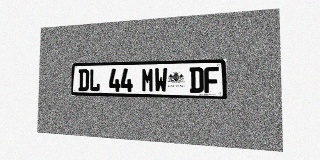4: (109, 68, 121, 92), (121, 68, 133, 92)
D: (189, 67, 204, 93), (78, 69, 89, 91)
F: (204, 67, 219, 93)
L: (89, 69, 100, 91)
M: (141, 68, 154, 92)
W: (154, 68, 167, 92)
